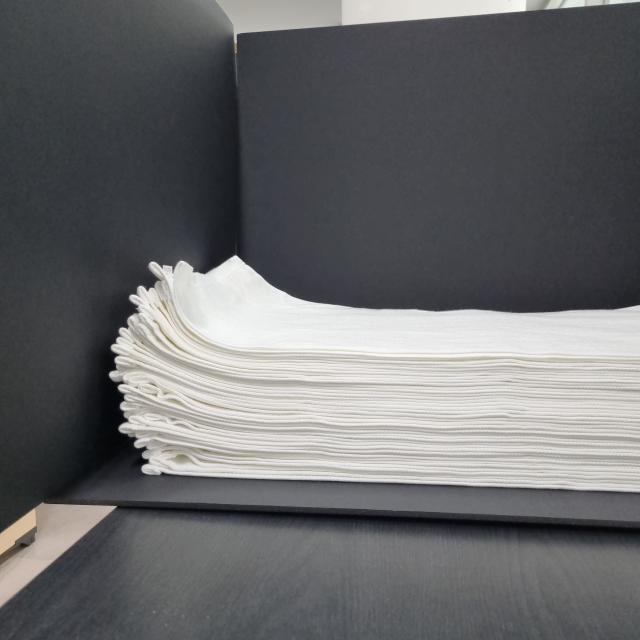not_50count_towel: (98, 245, 640, 500)
